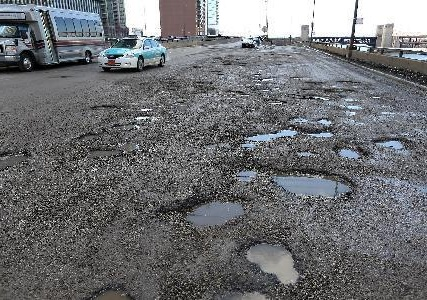pothole: (267, 164, 356, 200), (242, 238, 301, 286), (180, 194, 250, 230), (242, 125, 299, 142), (87, 280, 136, 299), (0, 147, 29, 170), (332, 142, 367, 160), (370, 135, 408, 151), (83, 145, 122, 156), (302, 128, 336, 140), (315, 116, 335, 126)
